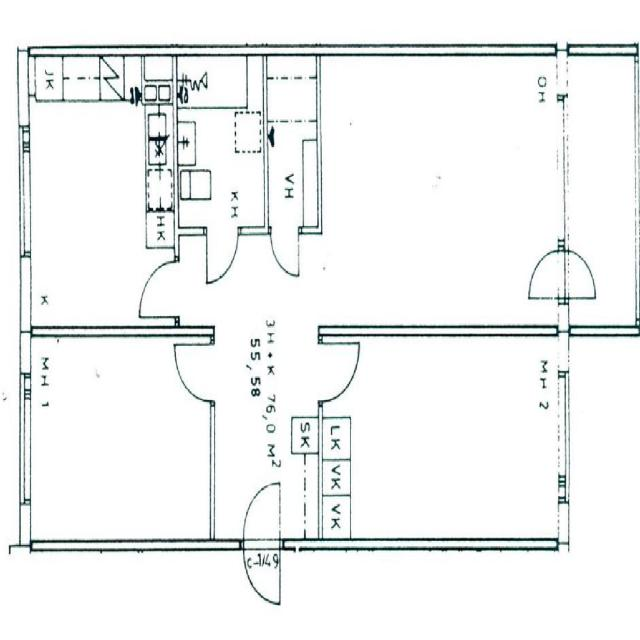door: (243, 482, 280, 550), (243, 539, 280, 607), (174, 344, 214, 401), (319, 344, 359, 401), (140, 261, 179, 317), (526, 250, 568, 298), (556, 250, 598, 298), (206, 227, 237, 283), (270, 227, 298, 280)
